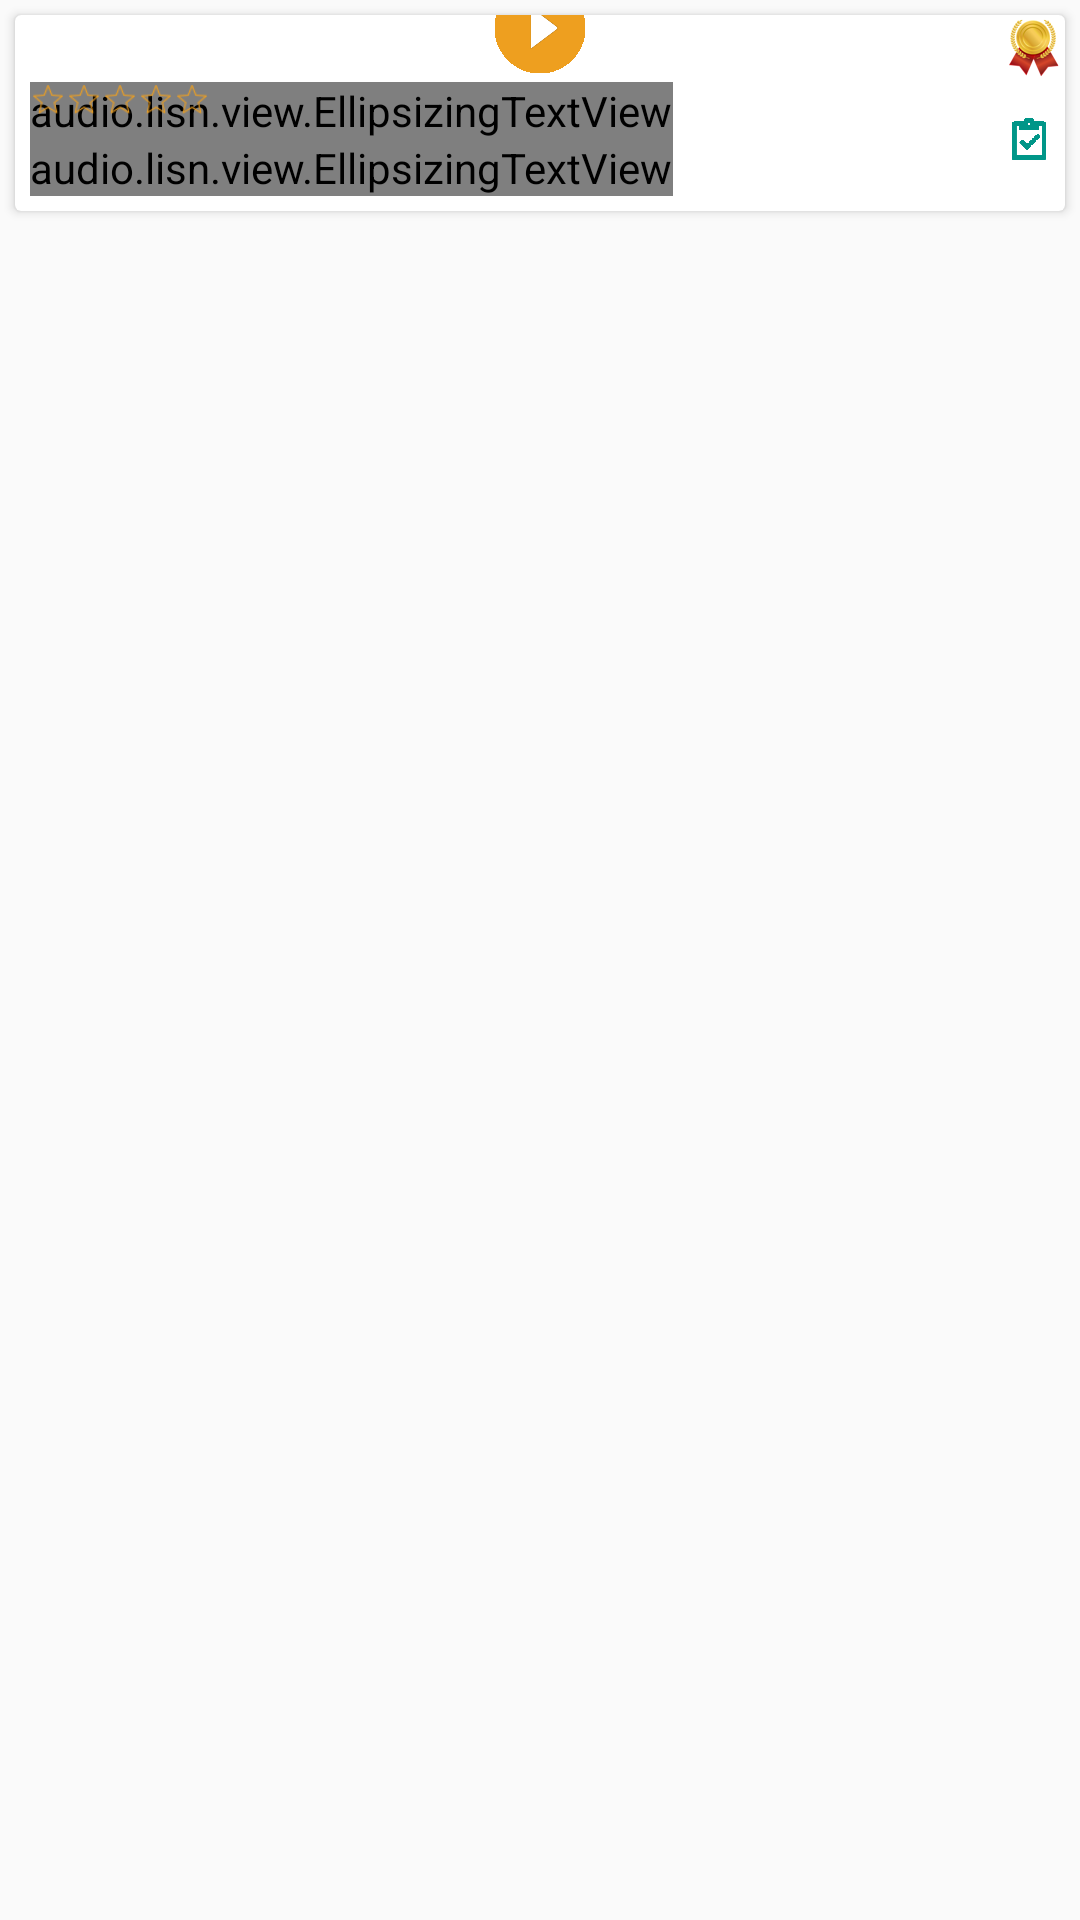

Screen size 1080x1920. Icon name, then its box in pixels as (x1, y1, x2, y2):
award: (1009, 20, 1059, 76)
